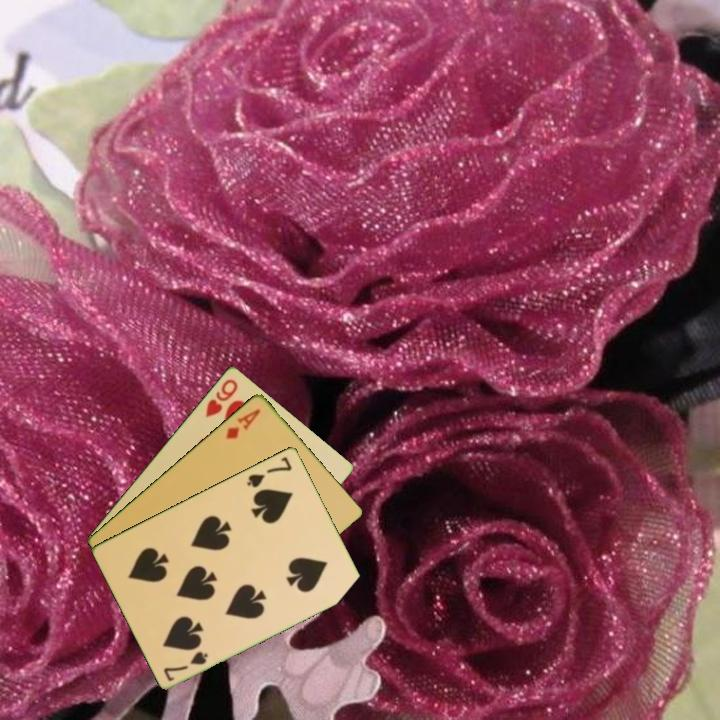7s: (243, 453, 295, 490), (160, 647, 211, 684)
9h: (202, 375, 241, 420)
Ad: (222, 405, 264, 442)
